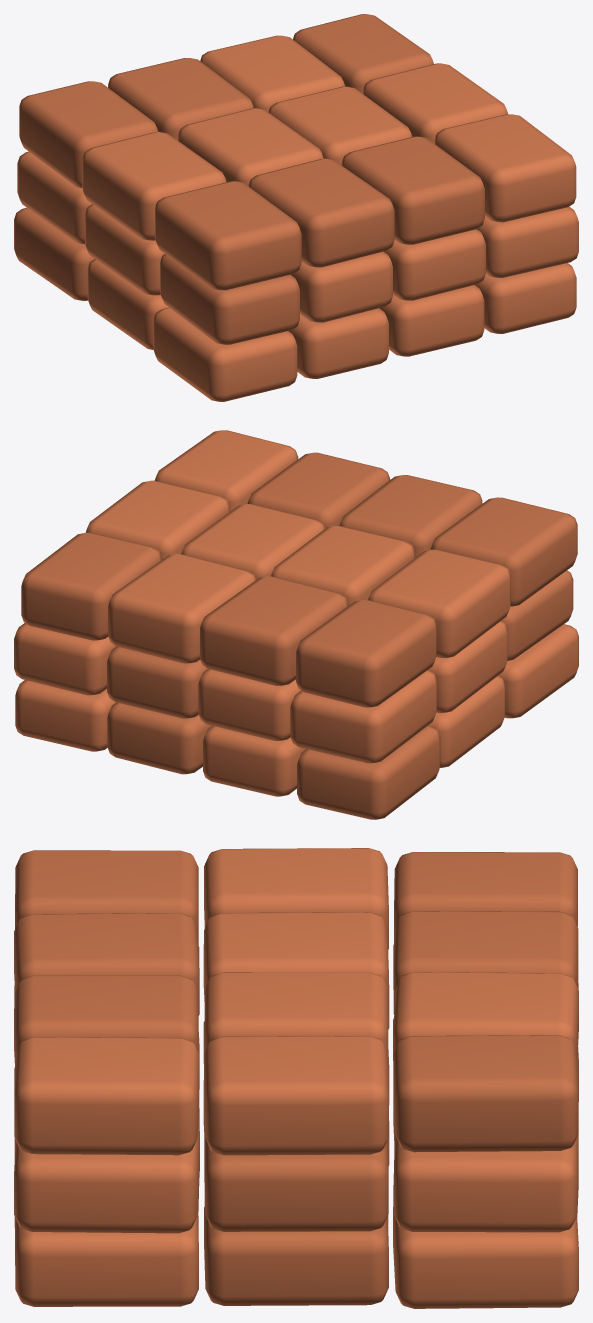
The model's file is BSC-07.glb.
3 renders of one model, top to bottom at view 1: azimuth 30°, elevation 25°; view 2: azimuth 150°, elevation 25°; view 3: azimuth 270°, elevation 25°, orthographic. The views are drawn at different scales.
Visible parts, largest first — view 1: handmade block.024, handmade block.027, handmade block.033, handmade block.030, handmade block.025, handmade block, handmade block.026, handmade block.012, handmade block.029, handmade block.028, handmade block.034, handmade block.032 (+12 smaller); view 2: handmade block.026, handmade block.029, handmade block.032, handmade block.035, handmade block.025, handmade block.024, handmade block.014, handmade block.002, handmade block.028, handmade block.034, handmade block.027, handmade block.033 (+12 smaller); view 3: handmade block.034, handmade block.033, handmade block.035, handmade block.023, handmade block.021, handmade block.022, handmade block.011, handmade block.010, handmade block.009, handmade block.031, handmade block.025, handmade block.024 (+6 smaller).
Part boxes in pixels (box(x1,y1,x2,y2)): handmade block.024: box(155, 181, 301, 290); handmade block.027: box(248, 158, 394, 267); handmade block.033: box(434, 114, 576, 222); handmade block.030: box(341, 136, 484, 244); handmade block.025: box(82, 132, 226, 240); handmade block: box(153, 307, 297, 401); handmade block.026: box(19, 81, 158, 187); handmade block.012: box(160, 254, 299, 344); handmade block.029: box(108, 58, 253, 140); handmade block.028: box(178, 108, 323, 185); handmade block.034: box(363, 63, 507, 143); handmade block.032: box(200, 35, 345, 111); handmade block.026: box(296, 600, 436, 707); handmade block.029: box(200, 576, 348, 685); handmade block.032: box(108, 554, 255, 663); handmade block.035: box(21, 532, 161, 640); handmade block.025: box(368, 549, 510, 658); handmade block.024: box(430, 497, 577, 606); handmade block.014: box(290, 670, 436, 763); handmade block.002: box(297, 725, 440, 819); handmade block.028: box(271, 526, 414, 605); handmade block.034: box(86, 480, 229, 559); handmade block.027: box(339, 475, 482, 557); handmade block.033: box(154, 430, 298, 511); handmade block.034: box(204, 1036, 388, 1155); handmade block.033: box(14, 1037, 199, 1155); handmade block.035: box(393, 1035, 578, 1152); handmade block.023: box(393, 1132, 578, 1232); handmade block.021: box(14, 1128, 199, 1233); handmade block.022: box(204, 1131, 388, 1231); handmade block.011: box(393, 1206, 578, 1308); handmade block.010: box(204, 1206, 388, 1305); handmade block.009: box(15, 1205, 198, 1306); handmade block.031: box(204, 972, 388, 1070); handmade block.025: box(204, 848, 388, 949); handmade block.024: box(15, 850, 198, 949).
Size of the model in its own units: 1.93 by 0.815 by 1.85.
